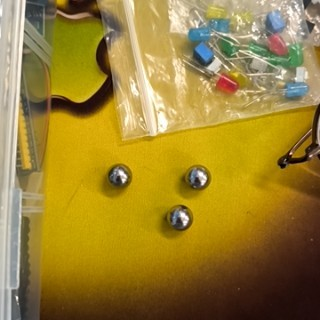ironball: (183, 155, 215, 196), (165, 196, 196, 237), (104, 153, 133, 191)
